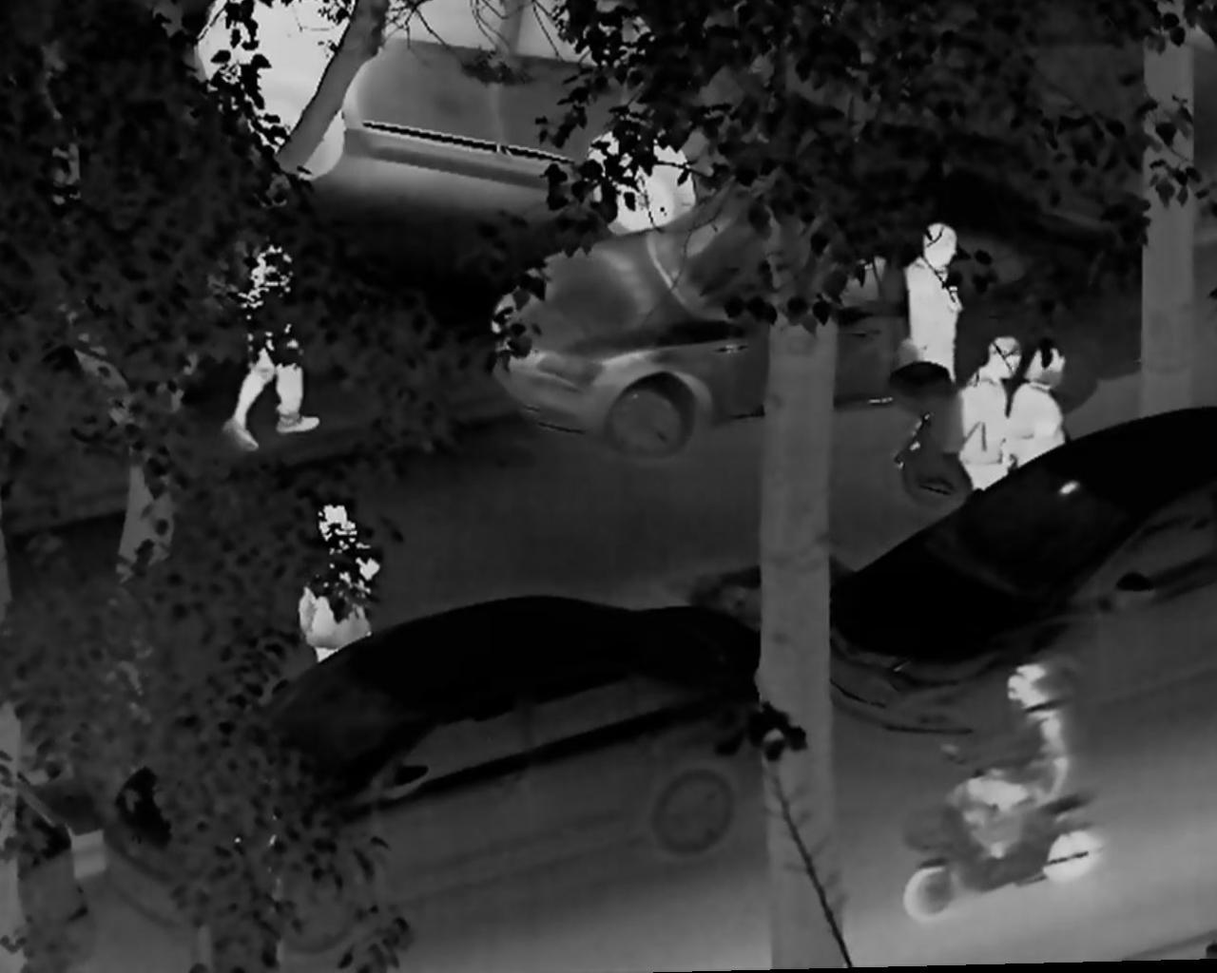person: (940, 651, 1080, 868), (222, 238, 323, 458), (894, 222, 970, 476), (288, 498, 391, 678), (942, 330, 1024, 497), (1002, 340, 1091, 484)
